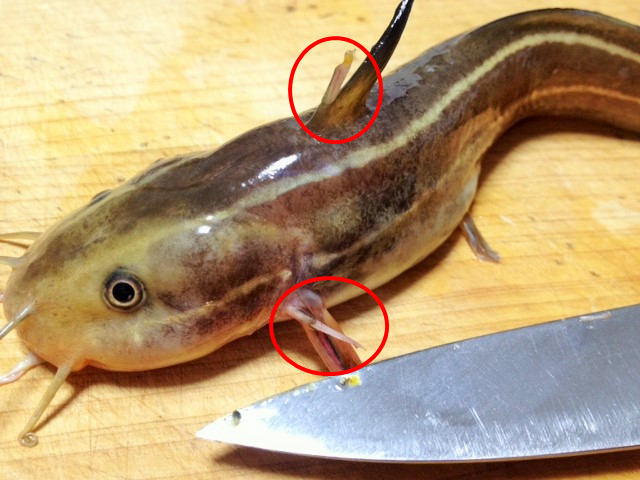gonzui: (3, 1, 640, 370)
